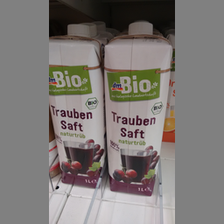juice: (104, 21, 172, 197), (49, 21, 107, 190)
